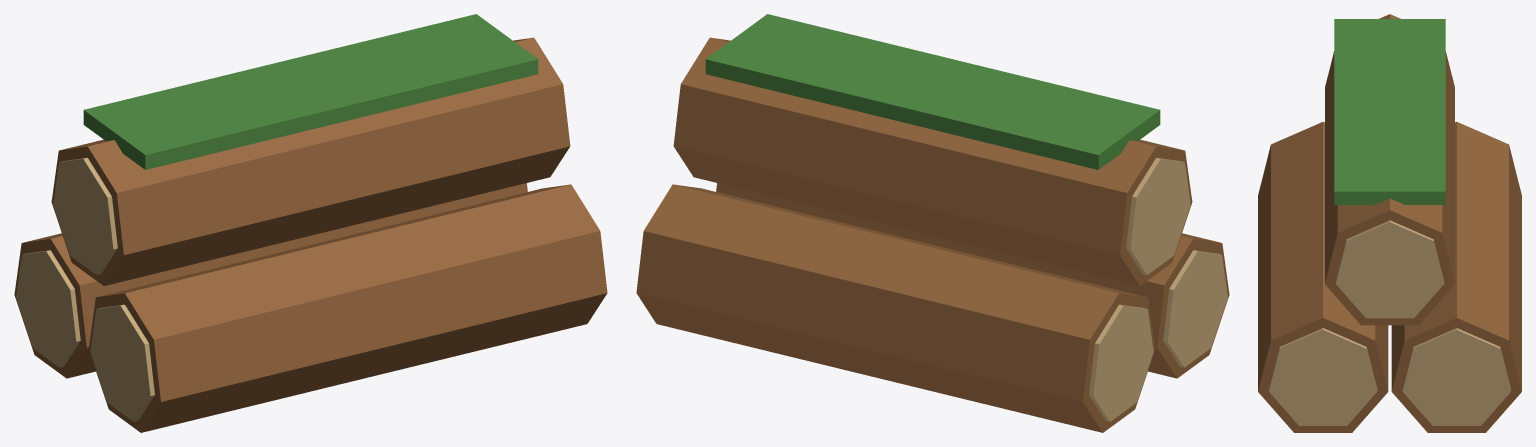
File: barrierB.glb
3 renders of one model, left to right at view 1: azimuth 30°, elevation 25°; view 2: azimuth 150°, elevation 25°; view 3: azimuth 270°, elevation 25°, orthographic. The views are drawn at different scales.
Visible parts, largest first — view 1: pineValley-barrierB; view 2: pineValley-barrierB; view 3: pineValley-barrierB.
Part boxes in pixels (left/top/right/bottom): pineValley-barrierB: left=14, top=14, right=607, bottom=432; pineValley-barrierB: left=636, top=14, right=1229, bottom=432; pineValley-barrierB: left=1258, top=14, right=1521, bottom=432.
Bounding box in the file's own units: 0.255 × 0.1364 × 0.1422.
